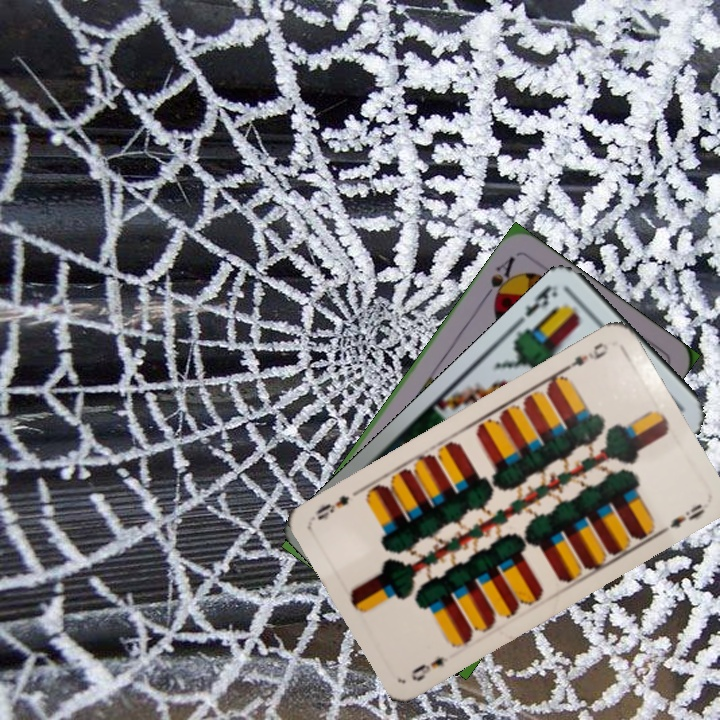E9: (559, 338, 612, 375), (407, 652, 451, 684)
EK: (521, 281, 561, 319)
SA: (479, 252, 519, 309)
